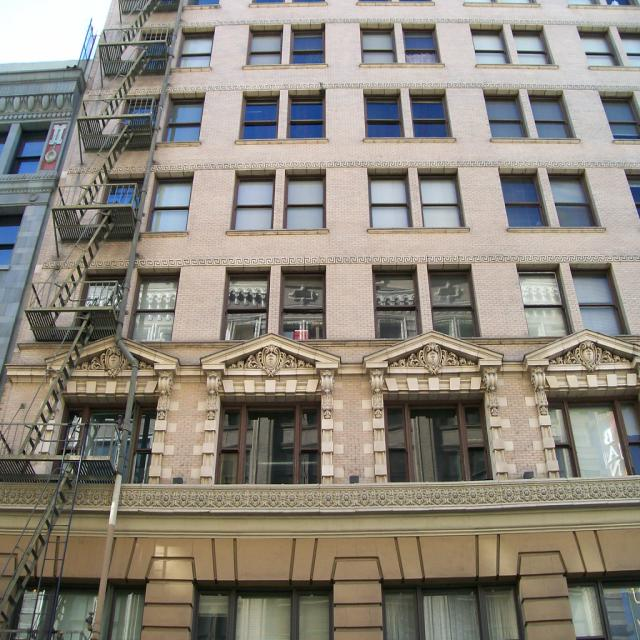no_fire: (17, 22, 597, 640)
